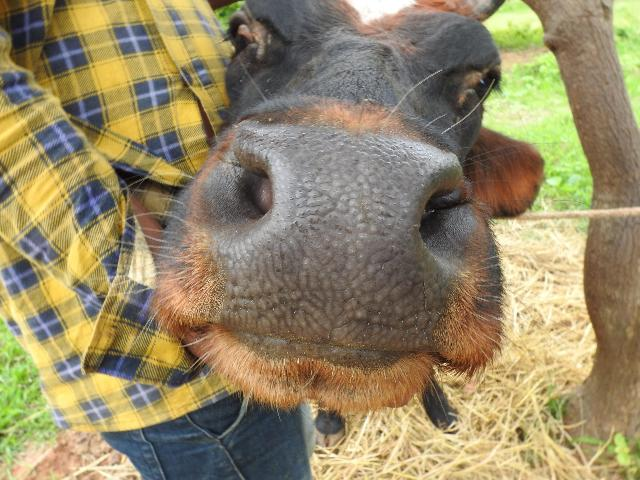Muzzle: (244, 129, 426, 345)
